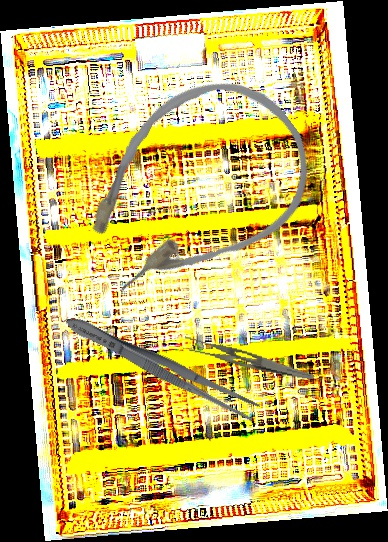Cannula: (45, 48, 339, 329)
Dressing Forceps: (61, 308, 263, 426), (180, 334, 318, 381)
